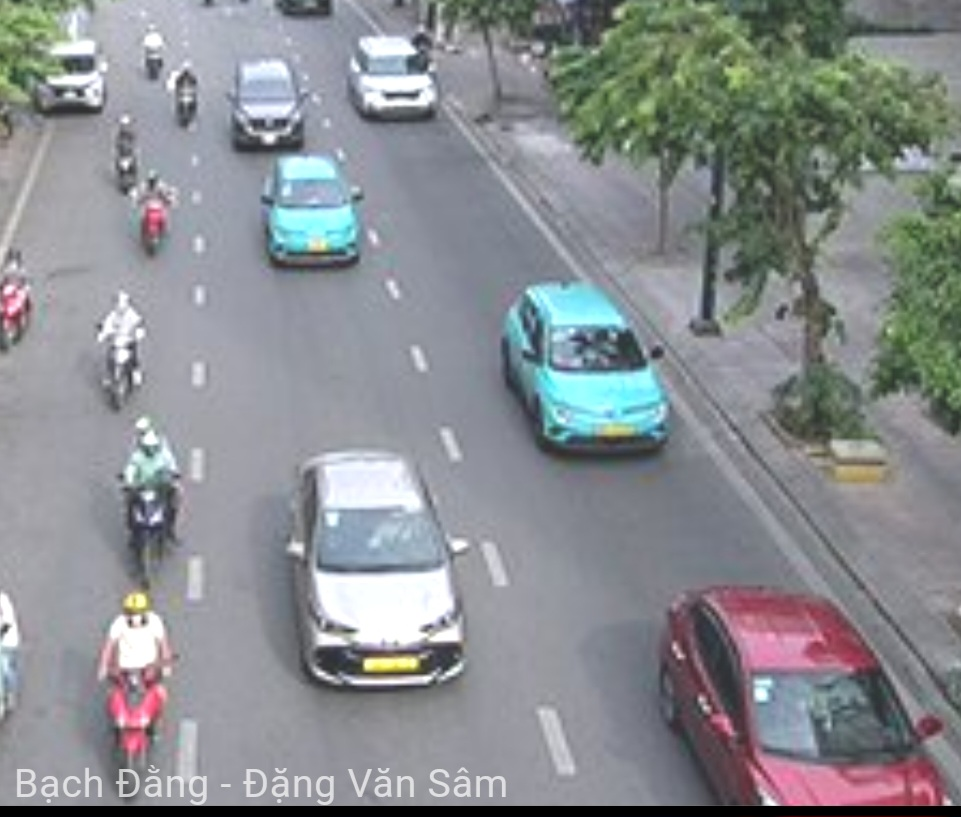car: (656, 582, 948, 802), (292, 443, 473, 691), (497, 278, 677, 454), (257, 157, 364, 269), (348, 37, 446, 122), (231, 53, 307, 152), (34, 33, 104, 117)
